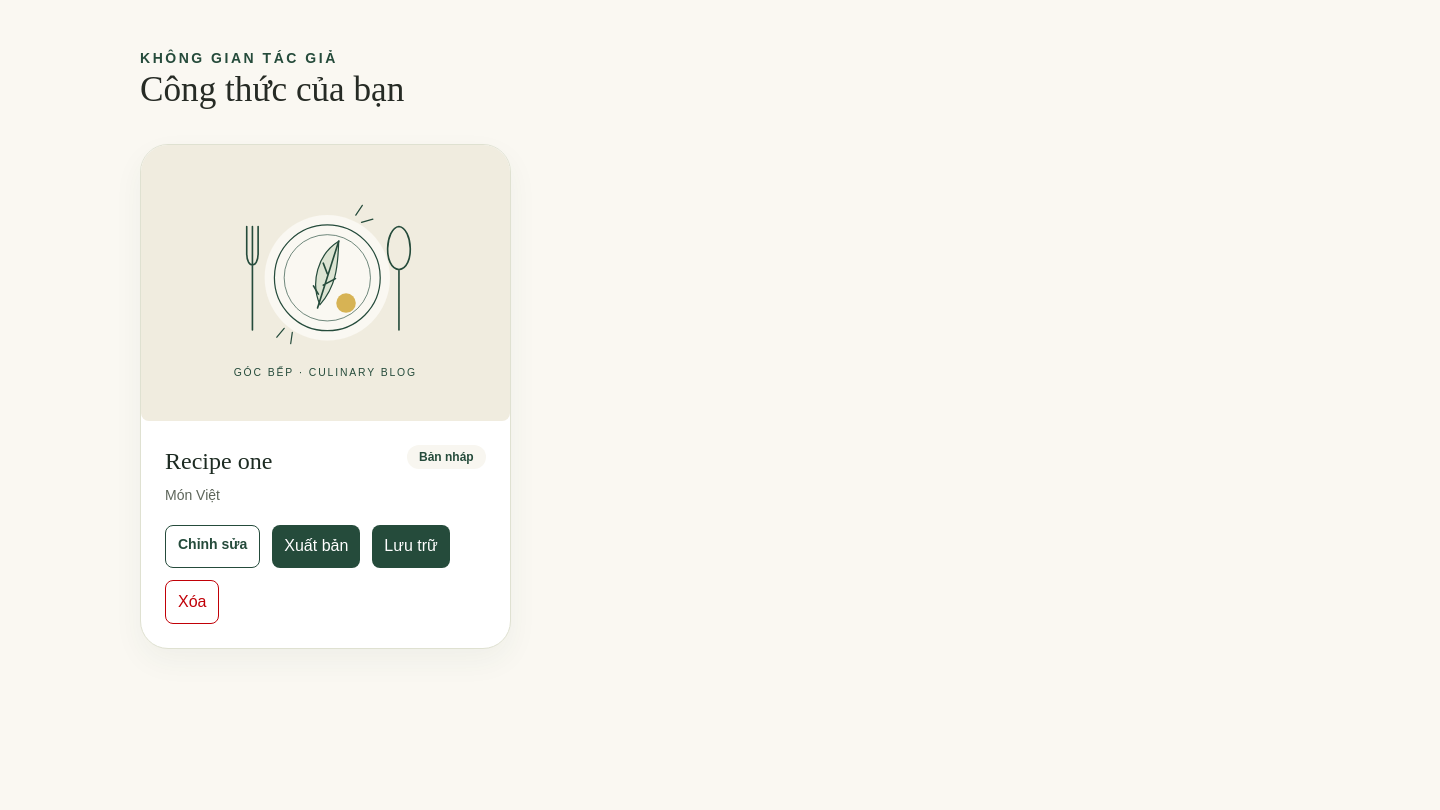
a conflict refetches once, keeps its message, and does not retry the mutation
Click the button "Xuất bản" at (316, 547), box [272,526,360,568]
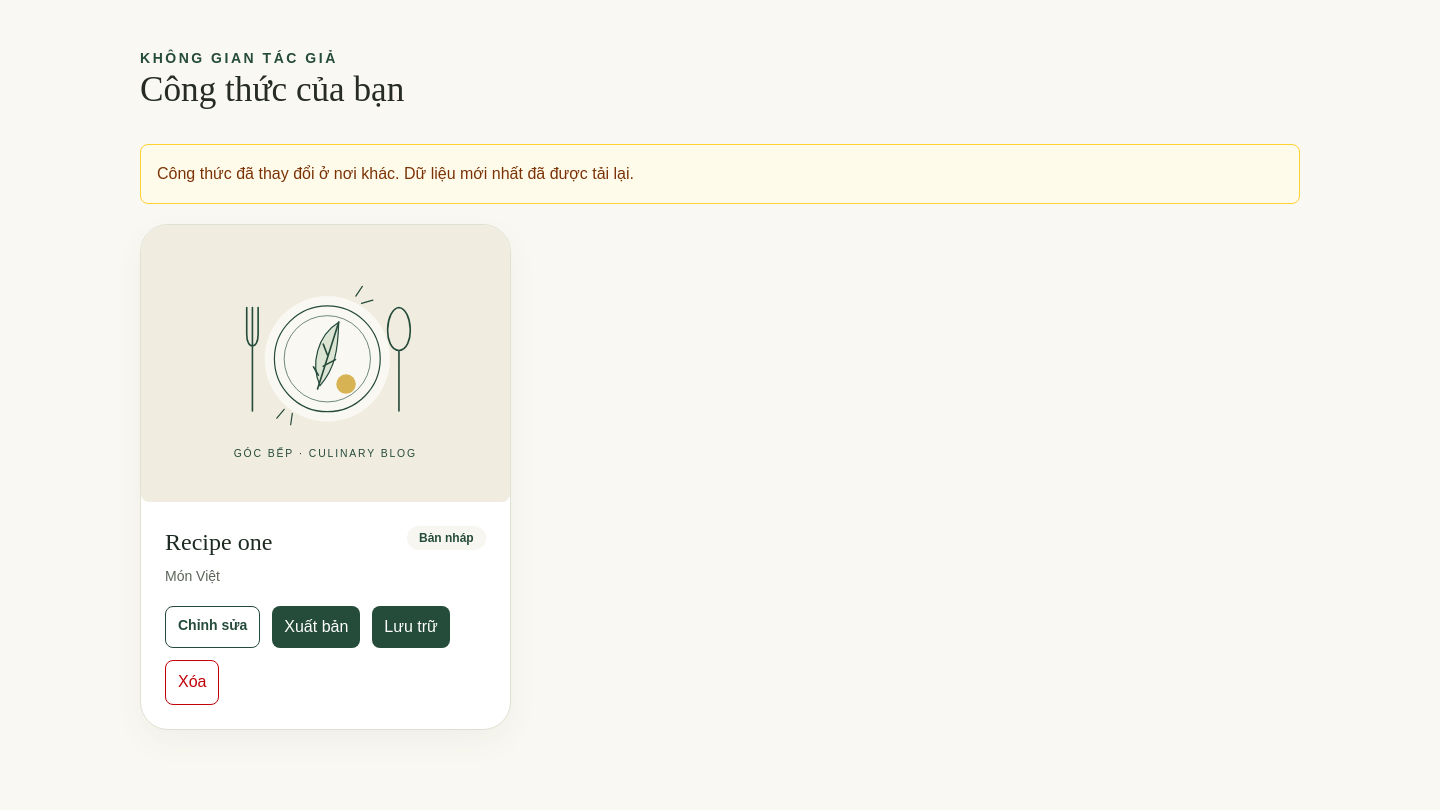
Check: the text "Dữ liệu mới nhất đã được tải lại" is shown, box [157,165,634,182]
